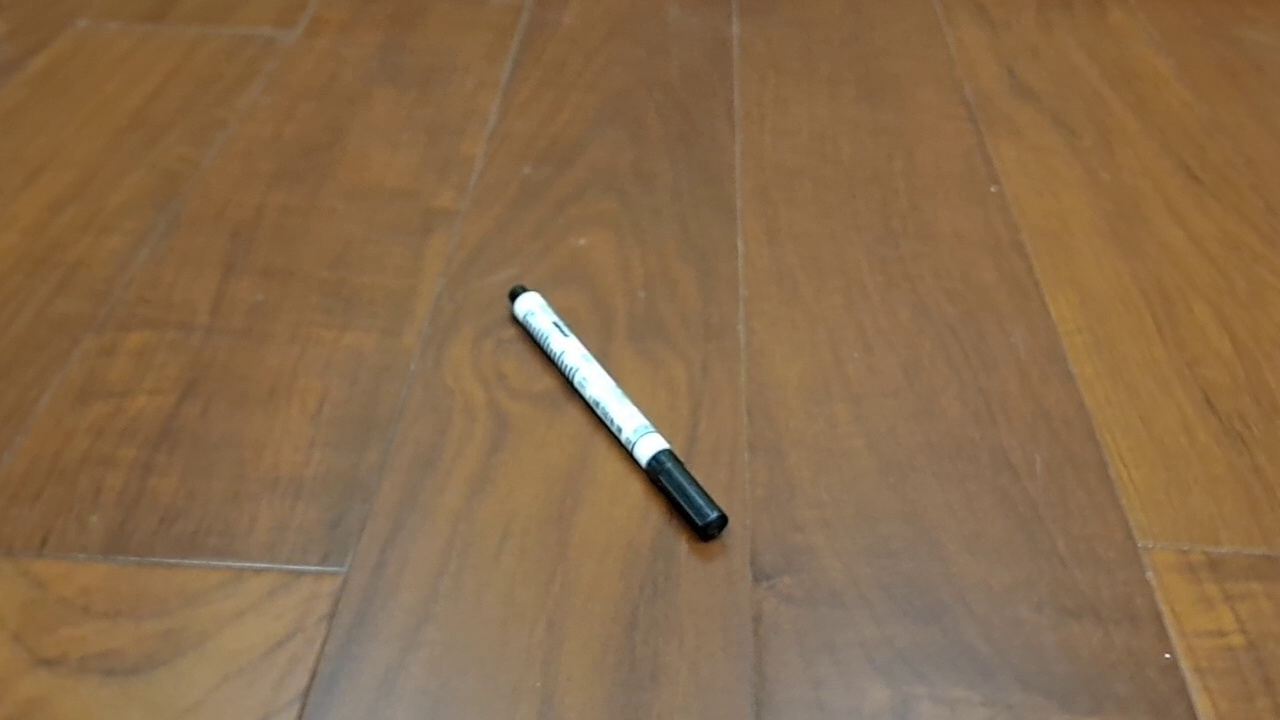pen: (508, 283, 729, 543)
